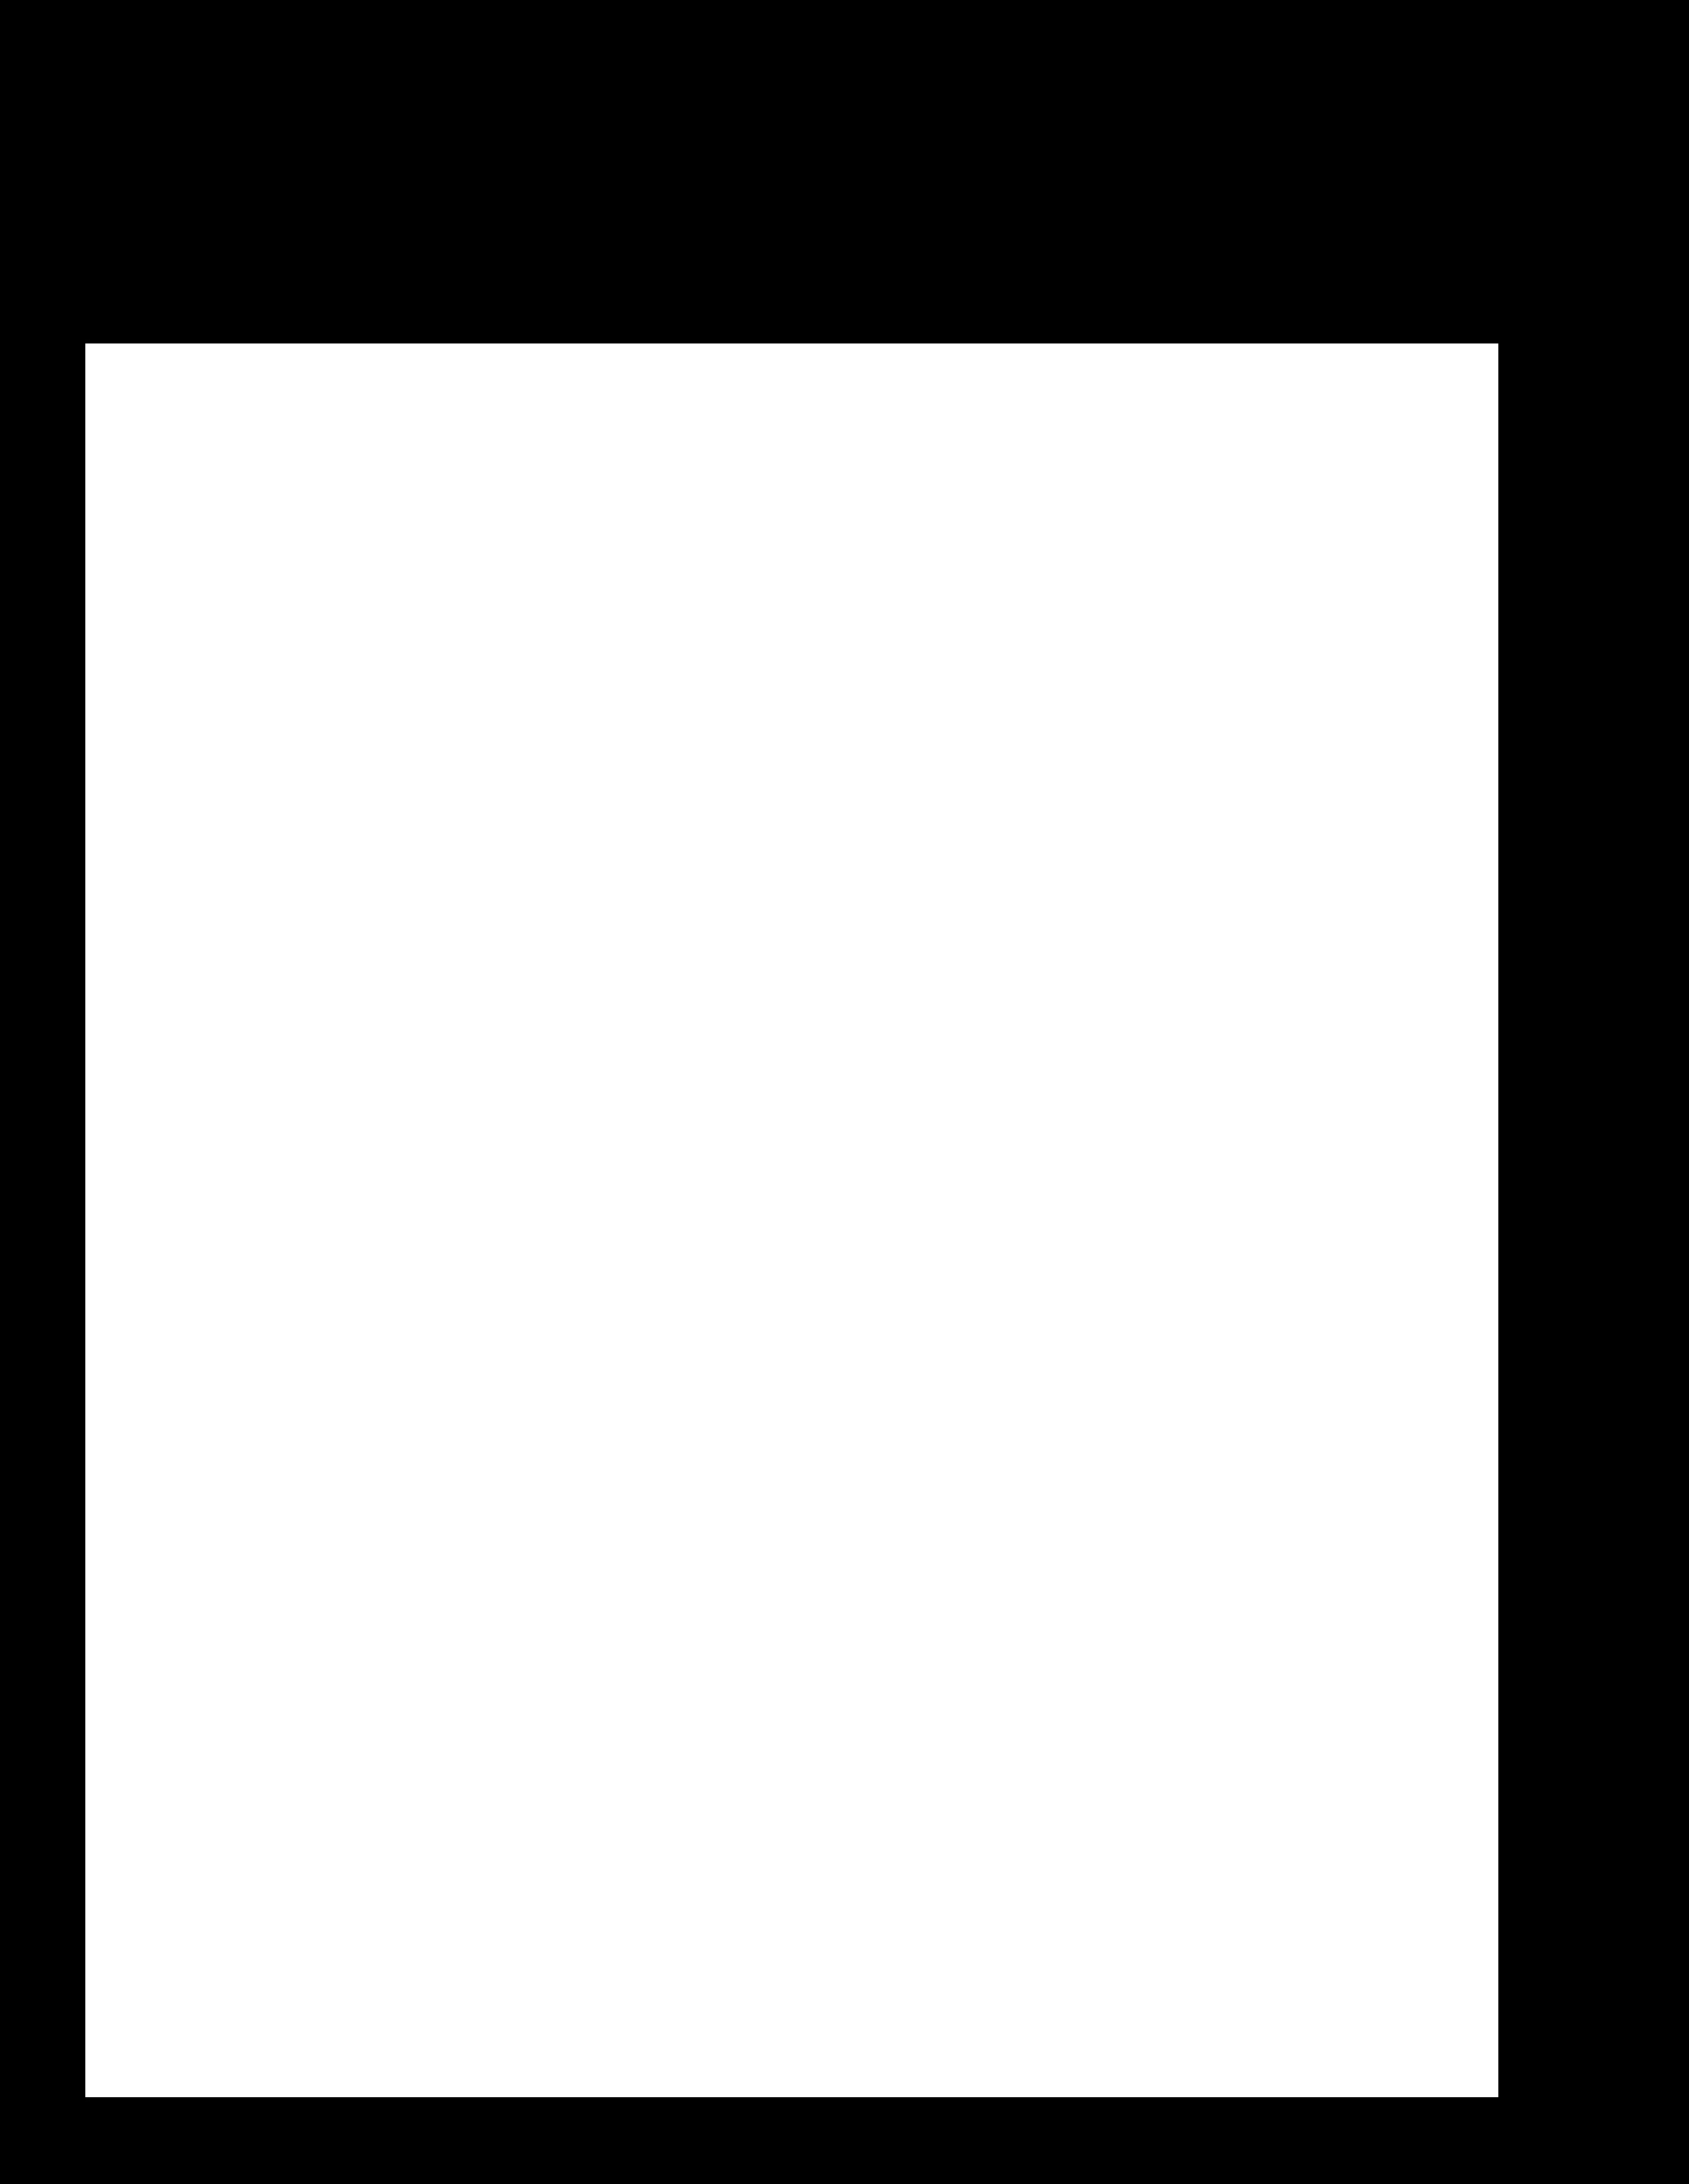table: (85, 344, 1498, 2097)
